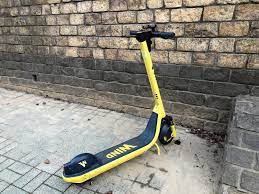kick_board: (62, 30, 176, 183)
kick_handler: (129, 27, 174, 42)
kick_neck: (141, 50, 165, 112)
kick_wheel: (65, 154, 98, 182), (158, 124, 175, 143)
